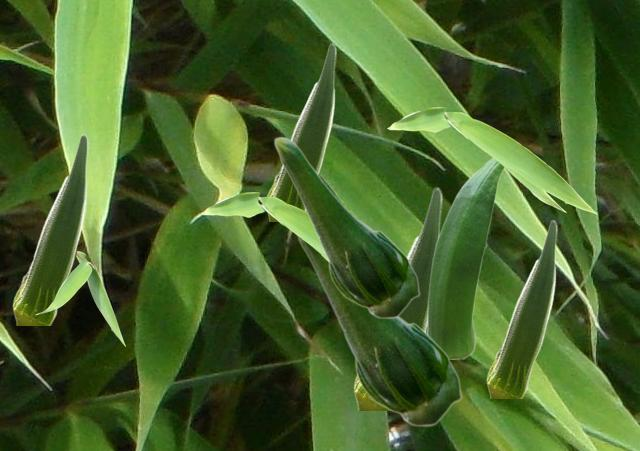okra: (295, 236, 461, 426), (273, 136, 419, 318), (353, 186, 441, 409), (426, 158, 504, 358), (12, 133, 87, 324), (486, 219, 556, 397), (266, 42, 335, 220)
